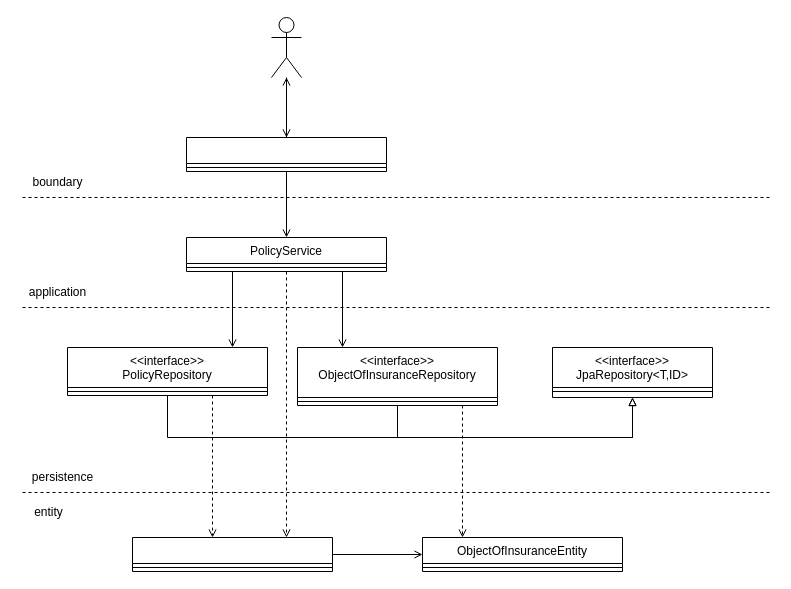
This 791x589 diagram has some shape labels left out. Here are the shapes that lost their labels. From the top down, the centre of each, then its label:
At point 286,154: "PolicyController".
At point 232,554: "PolicyEntity".
